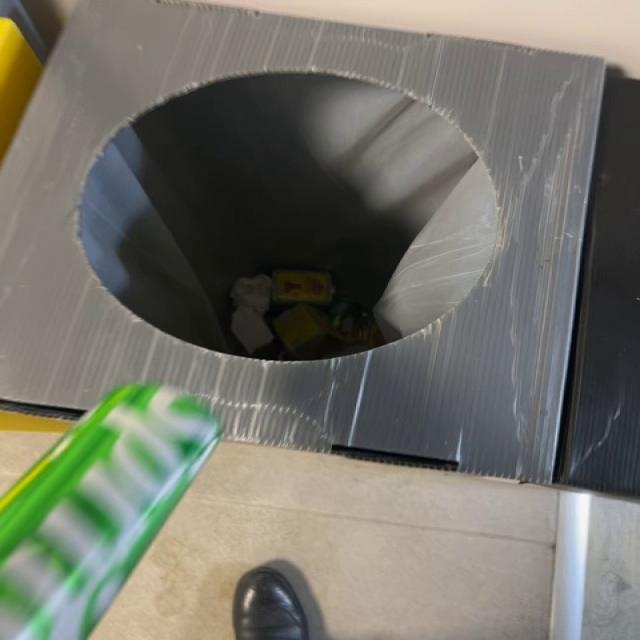bin: (1, 0, 605, 484)
metal: (1, 385, 221, 640)
